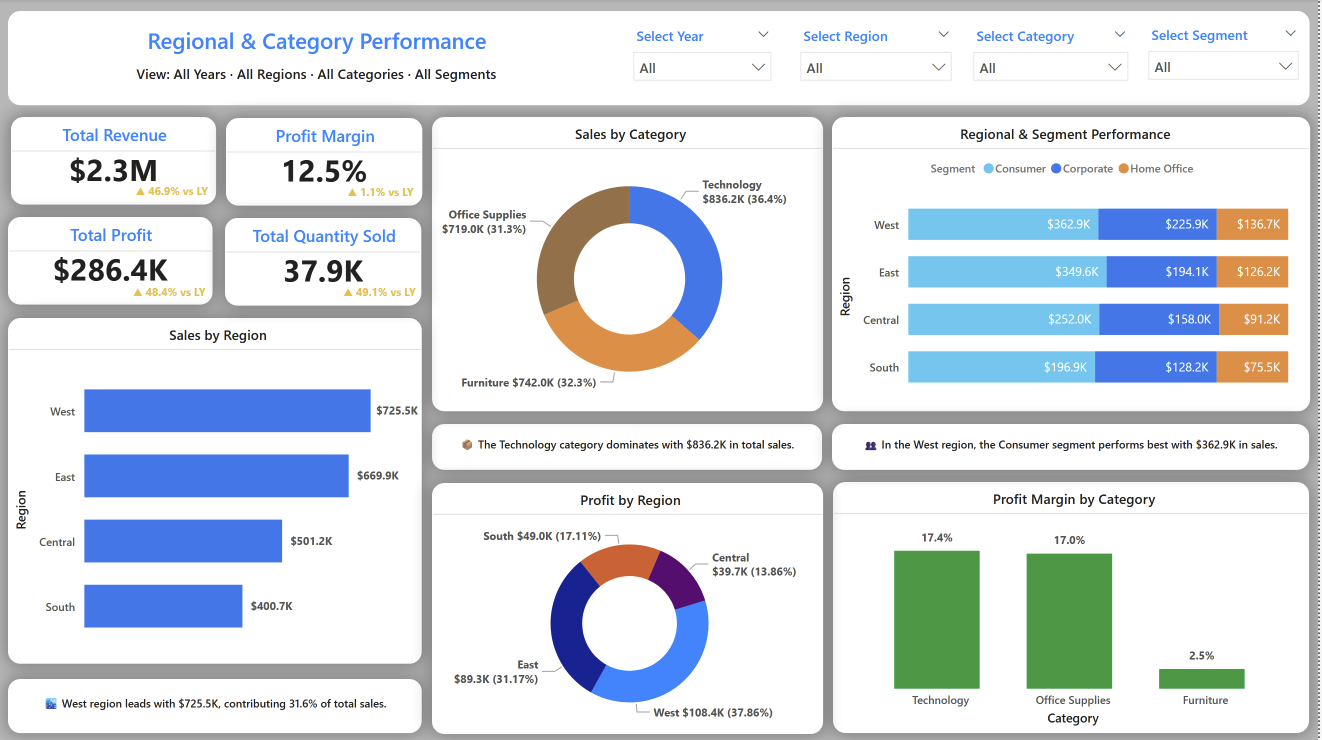

This screenshot's page, from the dashboard's own definition file:
{"tool":"powerbi","page":{"name":"Regional & Category Performance","canvas":[1280,720],"ordinal":1},"visuals":[{"type":"shape","box":[8.7,11.7,1263.2,91.3],"z":0,"group":"g2"},{"type":"card","title":"Total Revenue","fields":{"Values":["_measures.Context Banner"]},"box":[61.3,57.6,493.6,35],"z":0,"group":"g9"},{"type":"card","title":"Total Revenue","fields":{"Values":["_measures.Total Sales"]},"box":[11.6,114.5,198.9,85.2],"z":0,"group":"g1"},{"type":"card","title":"Profit Margin","fields":{"Values":["_measures.Profit Margin"]},"box":[220.3,115.5,190.5,84.9],"z":0,"group":"g6"},{"type":"card","title":"Total Profit","fields":{"Values":["_measures.Total Profit"]},"box":[8.7,211.5,198.3,84.9],"z":0,"group":"g3"},{"type":"card","title":"Total Quantity Sold","fields":{"Values":["_measures.Total Quantity"]},"box":[219.3,212.5,190.5,84.9],"z":0,"group":"g8"},{"type":"clusteredBarChart","title":"Sales by Region","fields":{"Category":["Location.Region"],"Y":["_measures.Total Sales"]},"box":[8.7,309.5,401.7,335.4],"z":0,"group":"g7"},{"type":"card","title":"Total Revenue","fields":{"Values":["_measures.TopSegmentInTopRegion"]},"box":[808.3,412.4,462.9,44.6],"z":0,"group":"g5"},{"type":"clusteredColumnChart","title":"Profit Margin by Category ","fields":{"Category":["Products.Category"],"Y":["_measures.Profit Margin"]},"box":[809.3,468.7,461.9,243.6],"z":0},{"type":"card","title":"Total Revenue","fields":{"Values":["_measures.TopRegionInsight"]},"box":[8.7,659.7,401.7,52.5],"z":0,"group":"g4"},{"type":"card","title":"Total Revenue","fields":{"Values":["_measures.TopCategoryInsight"]},"box":[420.2,412.4,378.4,44.6],"z":1000},{"type":"group","id":"g1","title":"Group 1","box":[11.6,114.5,200.9,90.2],"z":2000},{"type":"donutChart","title":"Sales by Category","fields":{"Category":["Products.Category"],"Y":["_measures.Total Sales"]},"box":[420.2,114.5,379.4,285.3],"z":3000},{"type":"group","id":"g2","title":"Group 3","box":[8.7,11.7,1263.2,91.3],"z":4000},{"type":"textbox","box":[11.6,20.4,593.7,43.7],"z":5000,"group":"g2"},{"type":"group","id":"g3","title":"Group 1","box":[8.7,211.5,198.9,90.2],"z":5000},{"type":"group","id":"g4","title":"Group 1","box":[8.7,659.7,401.7,52.5],"z":5000,"group":"g7"},{"type":"card","title":"vs. LY","fields":{"Values":["_measures.Sales YoY Label"]},"box":[123.6,172.8,89.1,32.1],"z":5002,"group":"g1"},{"type":"card","title":"vs. LY","fields":{"Values":["_measures.Profit Margin YoY Label"]},"box":[330,174.4,80.8,30.2],"z":5002,"group":"g6"},{"type":"card","title":"vs. LY","fields":{"Values":["_measures.Profit YoY Label"]},"box":[122.9,271.4,84.1,30.2],"z":5002,"group":"g3"},{"type":"card","title":"vs. LY","fields":{"Values":["_measures.Quantity YoY Label"]},"box":[329,271.4,80.8,30.2],"z":5002,"group":"g8"},{"type":"slicer","fields":{"Values":["Date.Year"]},"box":[605.1,21.5,154.2,72.8],"z":6000,"group":"g2"},{"type":"hundredPercentStackedBarChart","title":"Regional & Segment Performance","fields":{"Series":["Orders.Segment"],"Category":["Location.Region"],"Y":["_measures.Total Sales"]},"box":[808.3,114.5,463.8,285.3],"z":6000},{"type":"slicer","fields":{"Values":["Location.Region"]},"box":[768,21.5,167.1,72.8],"z":7000,"group":"g2"},{"type":"group","id":"g5","title":"Group 1","box":[808.3,412.4,462.9,44.6],"z":7000},{"type":"slicer","fields":{"Values":["Products.Category"]},"box":[935.1,21.5,170.3,72.8],"z":8000,"group":"g2"},{"type":"group","id":"g6","title":"Group 1","box":[220.3,115.5,190.2,89.3],"z":8000},{"type":"slicer","fields":{"Values":["Orders.Segment"]},"box":[1105.4,20.4,166,71.8],"z":9000,"group":"g2"},{"type":"group","id":"g7","title":"Group 2","box":[8.7,309.5,401.7,402.7],"z":9000},{"type":"group","id":"g8","title":"Group 1","box":[219.3,212.5,191.2,89.3],"z":10000},{"type":"donutChart","title":"Profit by Region","fields":{"Category":["Location.Region"],"Y":["_measures.Total Profit"]},"box":[420.2,469.6,379.4,243.6],"z":11000},{"type":"group","id":"g9","title":"Group 1","box":[61.3,57.6,493.9,34.9],"z":13000,"group":"g2"}]}

Visuals, with their boxes in screenshot pixels (x1, y1, x2, y2), scaled from the page's 1280x720 canvas onto the 1322x740 screenshot:
shape: pyautogui.locateOnScreen(9, 12, 1314, 106)
"Total Revenue" card: pyautogui.locateOnScreen(63, 59, 573, 95)
"Total Revenue" card: pyautogui.locateOnScreen(12, 118, 217, 205)
"Profit Margin" card: pyautogui.locateOnScreen(228, 119, 424, 206)
"Total Profit" card: pyautogui.locateOnScreen(9, 217, 214, 305)
"Total Quantity Sold" card: pyautogui.locateOnScreen(226, 218, 423, 306)
"Sales by Region" clusteredBarChart: pyautogui.locateOnScreen(9, 318, 424, 663)
"Total Revenue" card: pyautogui.locateOnScreen(835, 424, 1313, 470)
"Profit Margin by Category " clusteredColumnChart: pyautogui.locateOnScreen(836, 482, 1313, 732)
"Total Revenue" card: pyautogui.locateOnScreen(9, 678, 424, 732)
"Total Revenue" card: pyautogui.locateOnScreen(434, 424, 825, 470)
"Group 1" group: pyautogui.locateOnScreen(12, 118, 219, 210)
"Sales by Category" donutChart: pyautogui.locateOnScreen(434, 118, 826, 411)
"Group 3" group: pyautogui.locateOnScreen(9, 12, 1314, 106)
textbox: pyautogui.locateOnScreen(12, 21, 625, 66)
"Group 1" group: pyautogui.locateOnScreen(9, 217, 214, 310)
"Group 1" group: pyautogui.locateOnScreen(9, 678, 424, 732)
"vs. LY" card: pyautogui.locateOnScreen(128, 178, 220, 211)
"vs. LY" card: pyautogui.locateOnScreen(341, 179, 424, 210)
"vs. LY" card: pyautogui.locateOnScreen(127, 279, 214, 310)
"vs. LY" card: pyautogui.locateOnScreen(340, 279, 423, 310)
slicer - Date.Year: pyautogui.locateOnScreen(625, 22, 784, 97)
"Regional & Segment Performance" hundredPercentStackedBarChart: pyautogui.locateOnScreen(835, 118, 1314, 411)
slicer - Location.Region: pyautogui.locateOnScreen(793, 22, 966, 97)
"Group 1" group: pyautogui.locateOnScreen(835, 424, 1313, 470)
slicer - Products.Category: pyautogui.locateOnScreen(966, 22, 1142, 97)
"Group 1" group: pyautogui.locateOnScreen(228, 119, 424, 210)
slicer - Orders.Segment: pyautogui.locateOnScreen(1142, 21, 1313, 95)
"Group 2" group: pyautogui.locateOnScreen(9, 318, 424, 732)
"Group 1" group: pyautogui.locateOnScreen(226, 218, 424, 310)
"Profit by Region" donutChart: pyautogui.locateOnScreen(434, 483, 826, 733)
"Group 1" group: pyautogui.locateOnScreen(63, 59, 573, 95)
